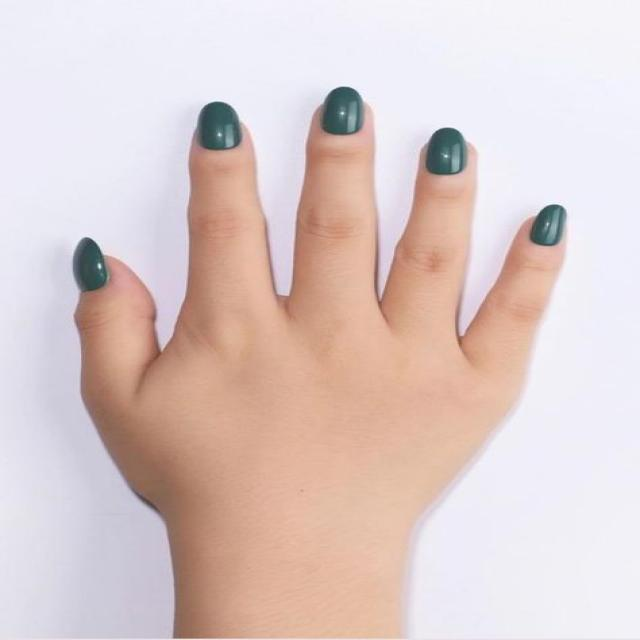Fingernail: (196, 101, 243, 151), (320, 86, 366, 136), (426, 127, 468, 176), (73, 237, 107, 291), (529, 204, 567, 246)
